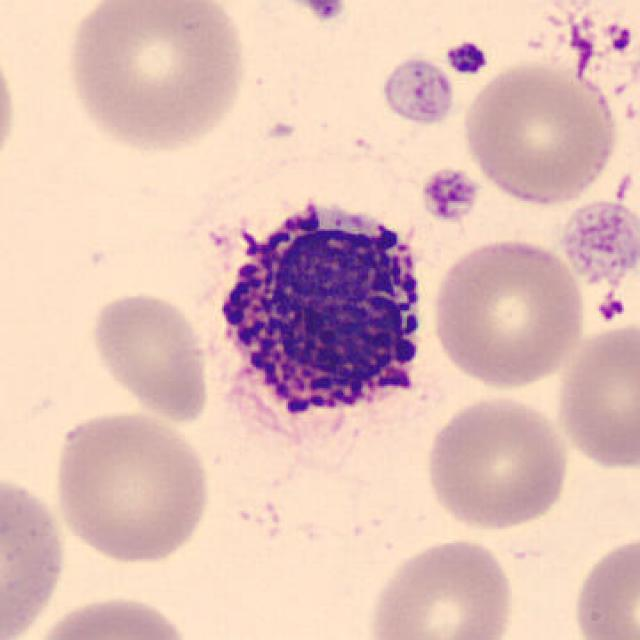Basophil: (199, 185, 443, 455)
Platelets: (561, 202, 640, 285), (379, 54, 457, 128), (416, 166, 482, 224), (442, 37, 490, 78), (297, 0, 347, 23), (594, 293, 628, 326)
RBC: (61, 0, 250, 155), (48, 406, 215, 568), (426, 235, 588, 393), (457, 58, 622, 208), (420, 392, 572, 532), (85, 287, 215, 425), (364, 532, 518, 640), (551, 318, 638, 474), (0, 467, 71, 640), (21, 589, 198, 640), (568, 530, 638, 640), (377, 53, 459, 129), (0, 28, 23, 187)
